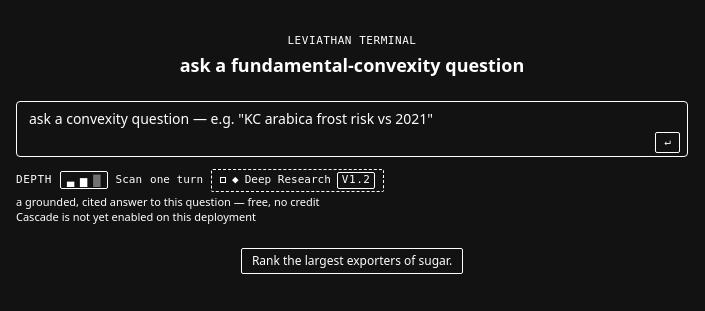
Test: EmptyState prompt gallery (D-AM-16, clamped to 3 by D-SG S1) › D-UX-1: a starter with slots prefills the SERVER fill and opens the slot bar for retargeting
What coordinates should you click on to do the following:
click the button "Rank the largest exporters of sugar."
I would click on:
 (352, 261)
Its box is [241,248,463,274].
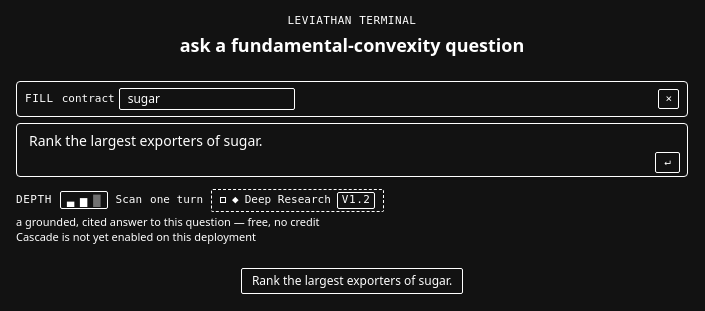
expect the text box with test id "composer-hero" holds "Rank the largest exporters of sugar.": met, box [16,123,688,177]
expect the field named "contract slot" holds "sugar": met, box [119,88,295,110]
